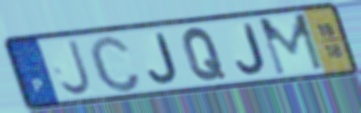C: (86, 33, 144, 94)
J: (59, 37, 95, 98), (234, 22, 268, 76), (147, 31, 180, 85)
M: (256, 11, 327, 79)
Q: (181, 25, 229, 83)
